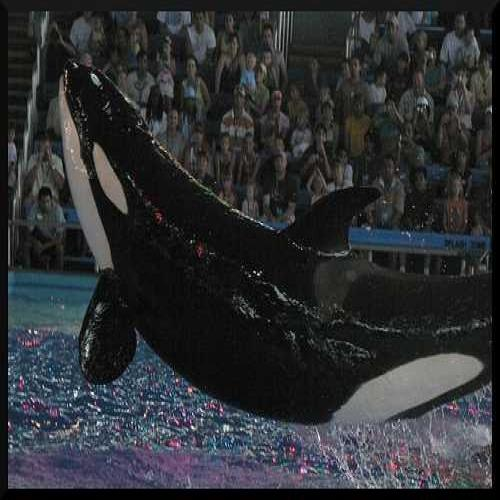killer_whale-endangered: (40, 53, 464, 447)
